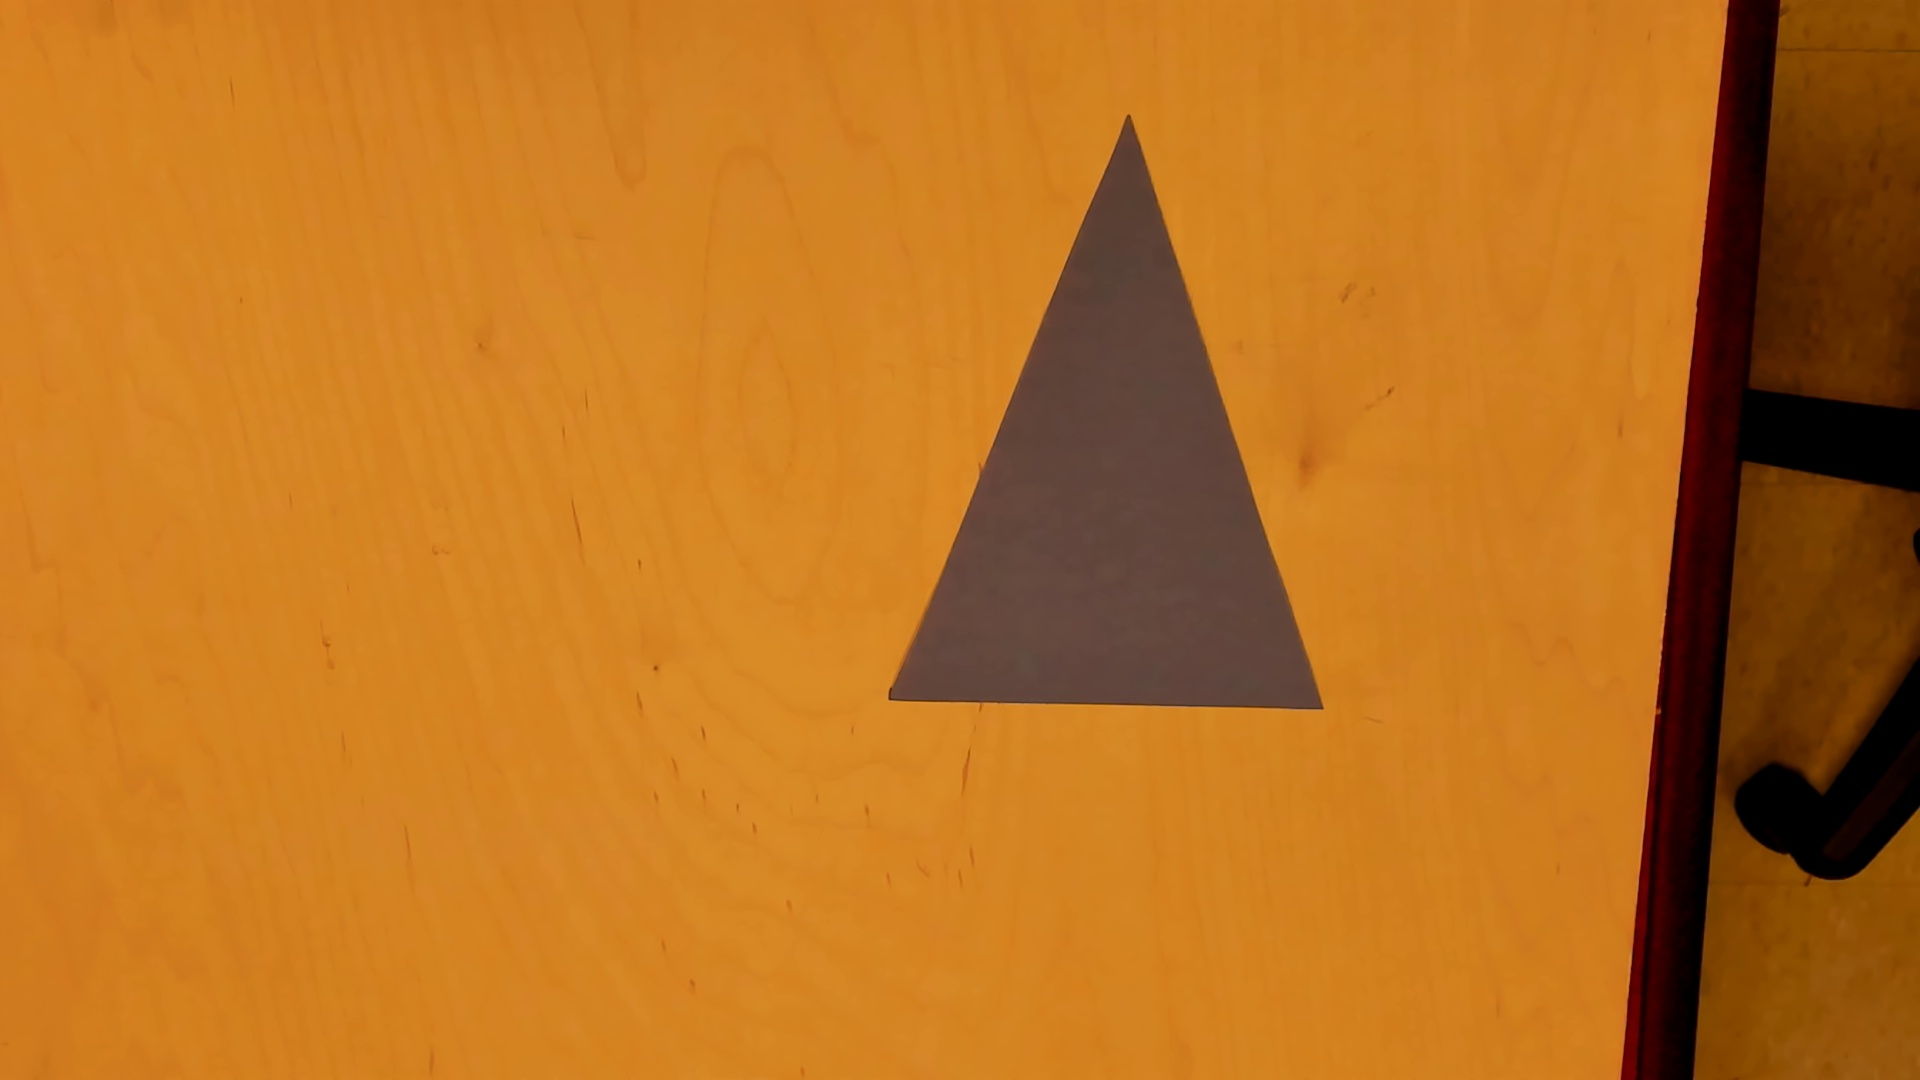BT: (887, 107, 1332, 716)
